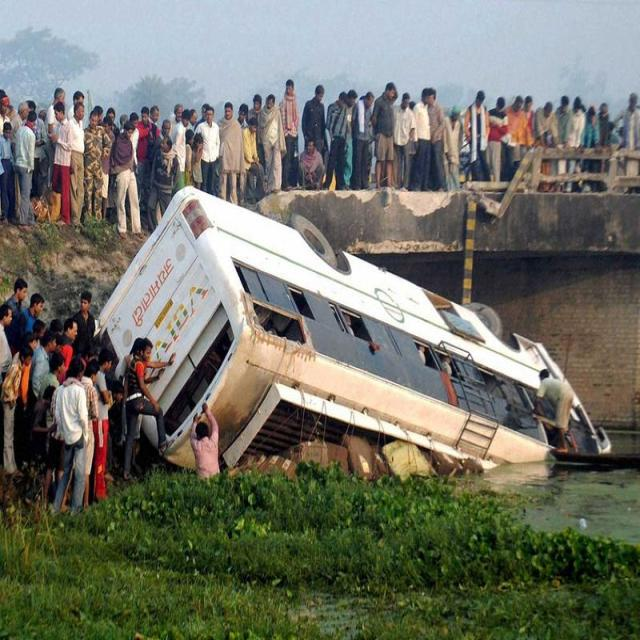accident: (99, 187, 562, 467)
